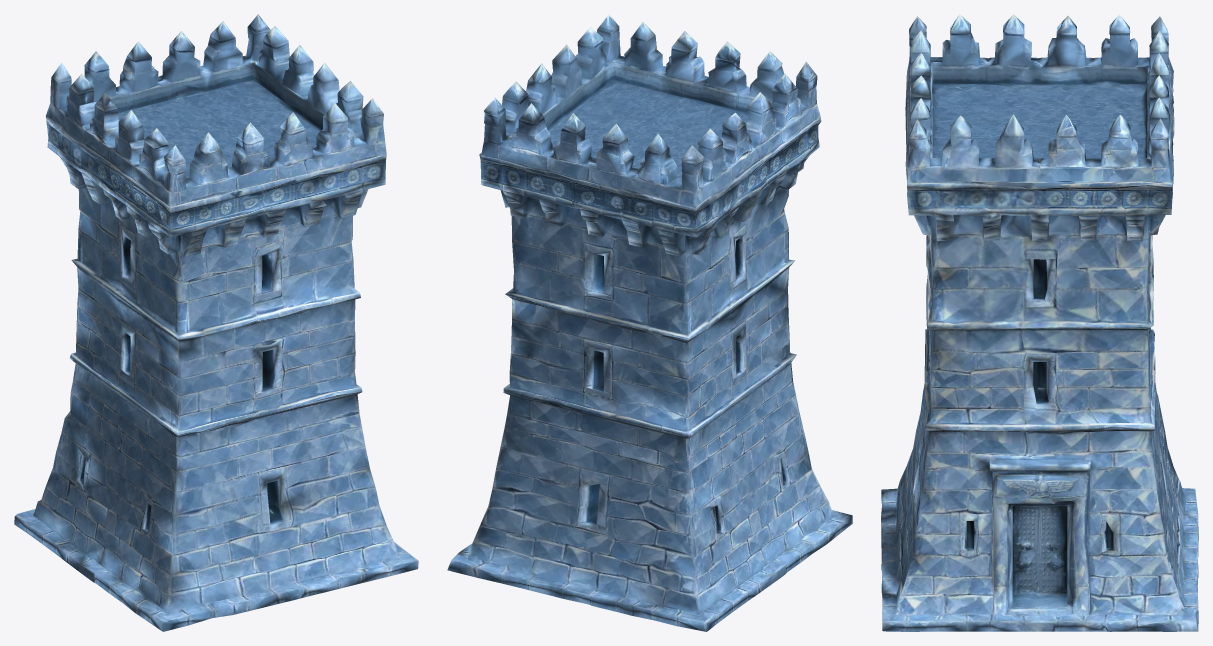
File: castle_tower_medium_diamond_ice.glb
3 views of the same model, side by side, from view 1: azimuth 30°, elevation 25°; view 2: azimuth 150°, elevation 25°; view 3: azimuth 270°, elevation 25° (orthographic). The views are drawn at different scales.
Visible parts, largest first — view 1: tripo_node_95178185-30f7-4753-b266-cb30b1ff8cf8; view 2: tripo_node_95178185-30f7-4753-b266-cb30b1ff8cf8; view 3: tripo_node_95178185-30f7-4753-b266-cb30b1ff8cf8.
Part boxes in pixels (left/top/right/bottom): tripo_node_95178185-30f7-4753-b266-cb30b1ff8cf8: left=14, top=14, right=418, bottom=631; tripo_node_95178185-30f7-4753-b266-cb30b1ff8cf8: left=447, top=14, right=852, bottom=631; tripo_node_95178185-30f7-4753-b266-cb30b1ff8cf8: left=881, top=14, right=1198, bottom=631.
Bounding box in the file's own units: 0.5626 × 0.9798 × 0.5622.
1 material, 1 textured.
